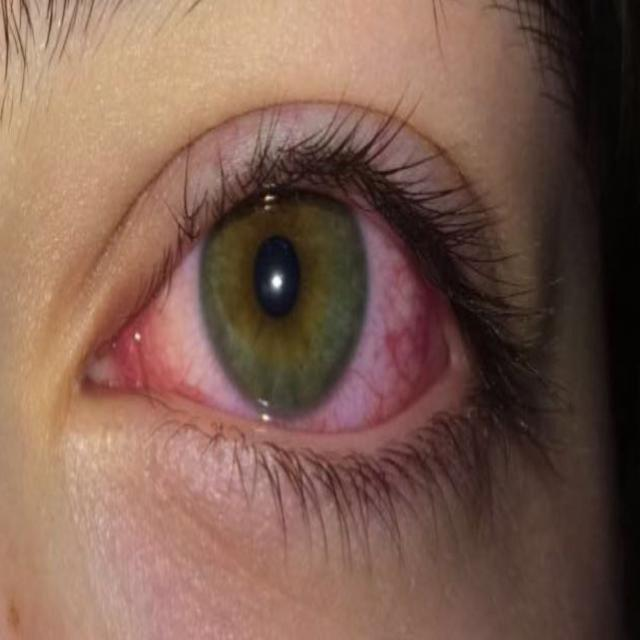eye: (40, 51, 581, 525)
gaze: (195, 163, 380, 425)
